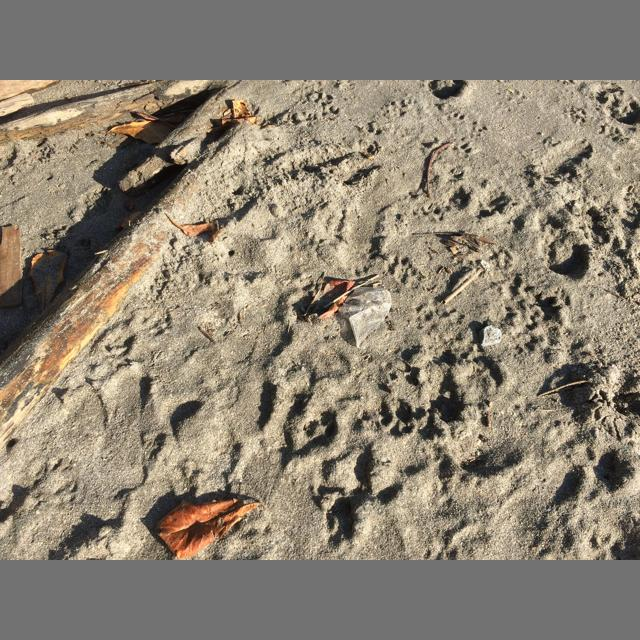litter: (338, 287, 392, 349)
